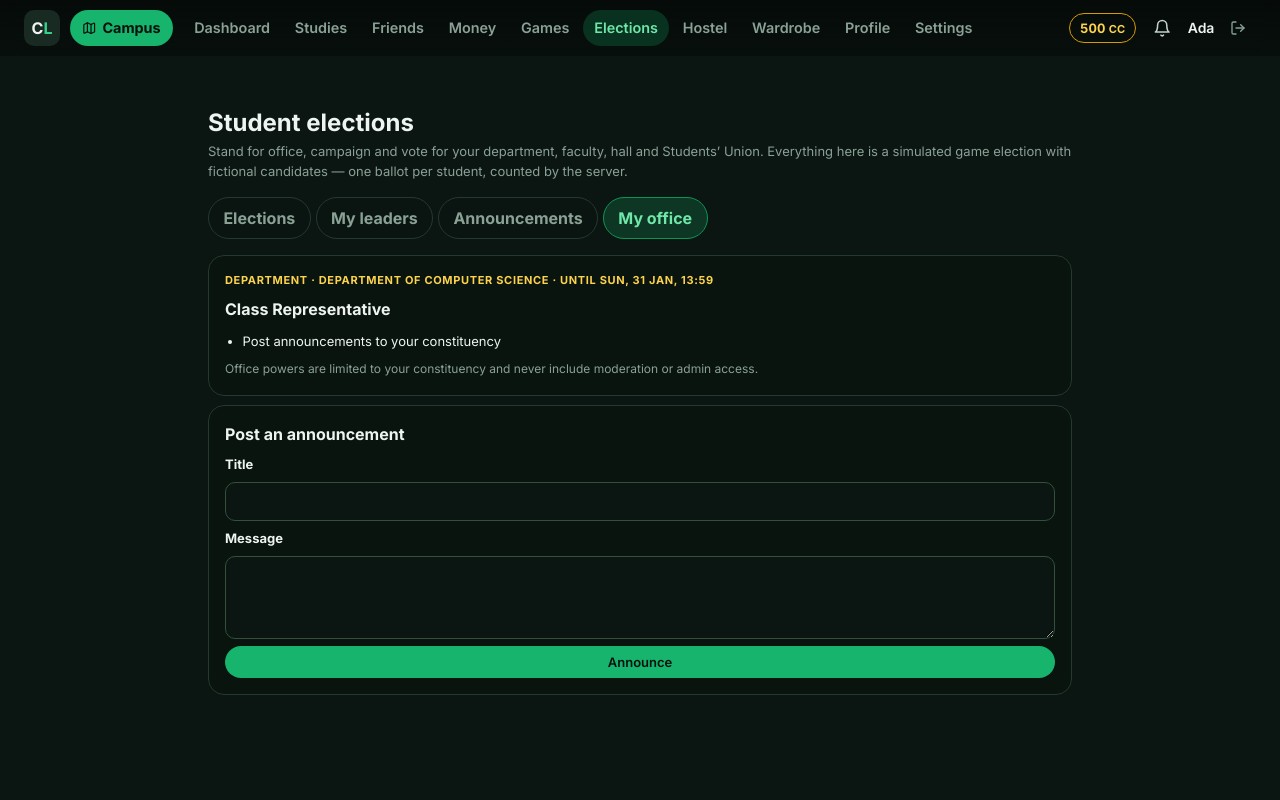
Test: leadership › an office holder posts an announcement from their desk
The image size is (1280, 800).
Expected: the heading "Post an announcement" is shown, 225,424 -> 404,444
In the field labelled "Title": point(640, 501) 225,482 -> 1055,521, type "Tutorial on Friday"
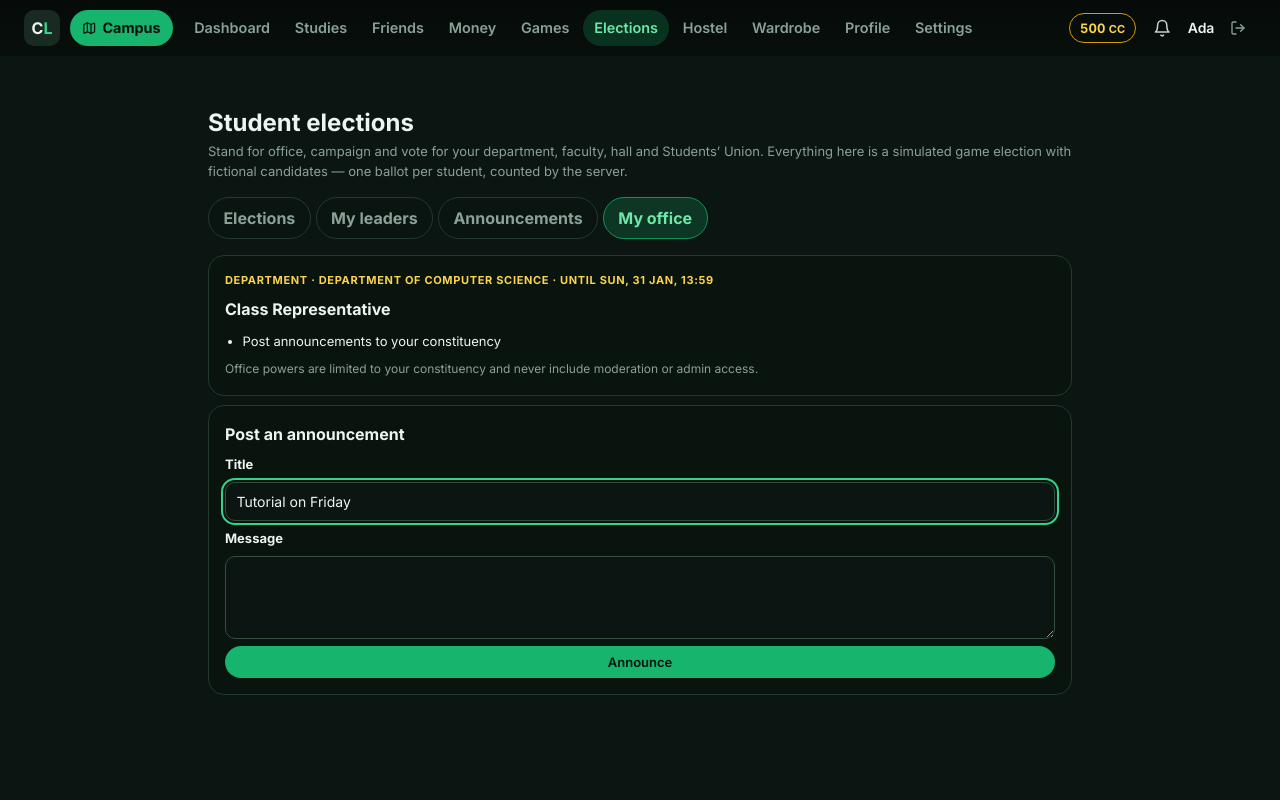
In the text box labelled "Message": point(640, 597) 225,556 -> 1055,639, type "LT1 at 4pm."
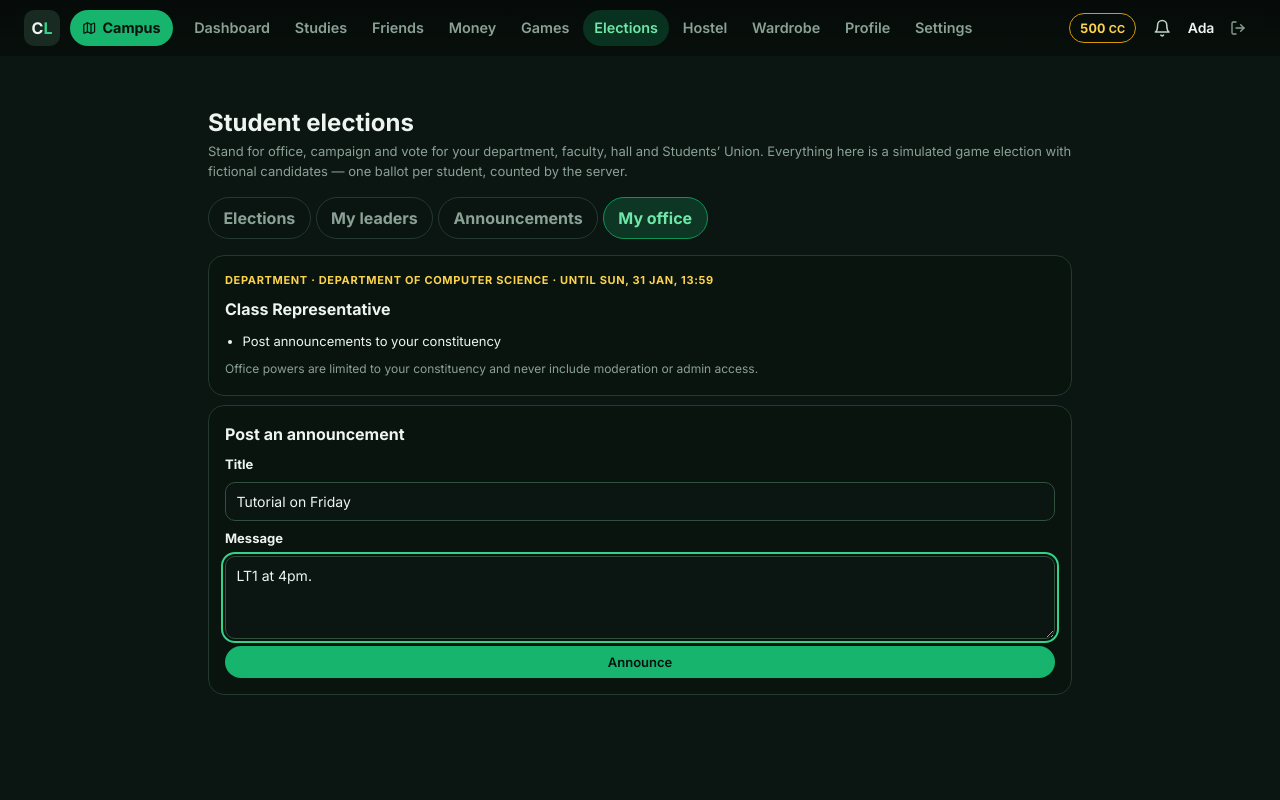
Click the button "Announce": point(640, 662) 225,646 -> 1055,678
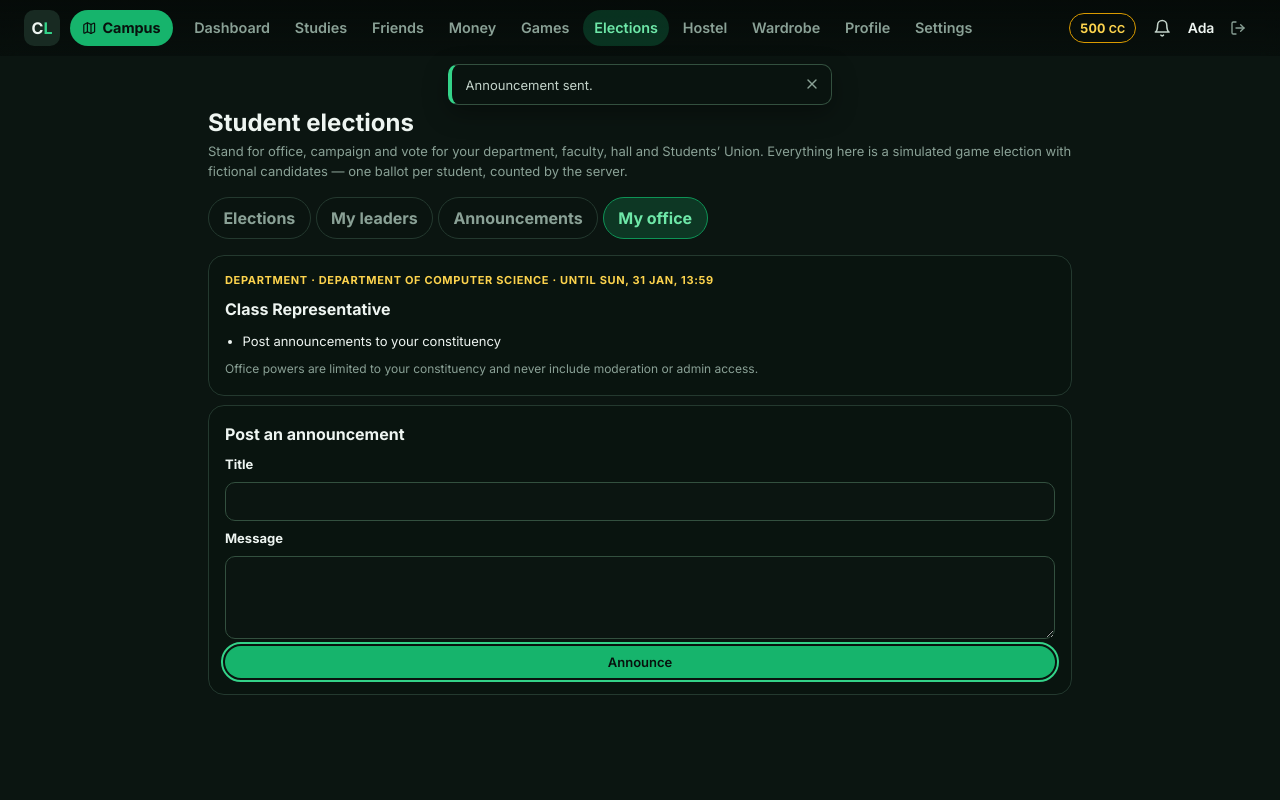
Expected: the text "Announcement sent." is shown, 466,77 -> 593,93
